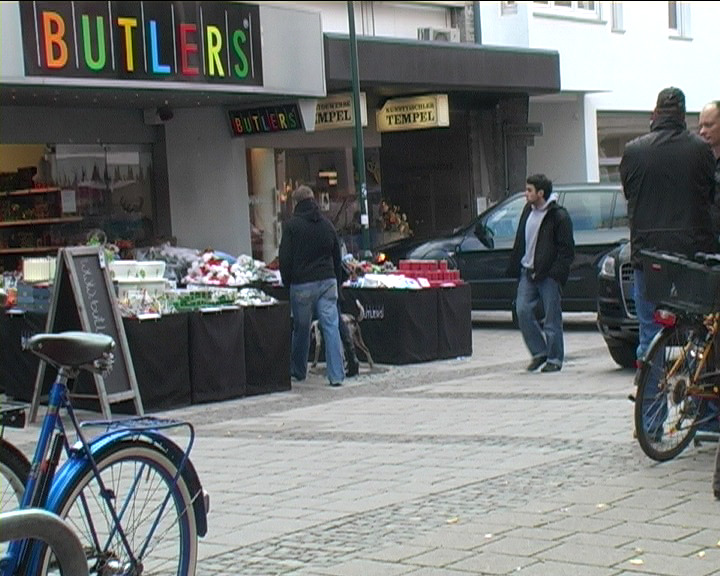undeflect: (515, 175, 564, 239)
